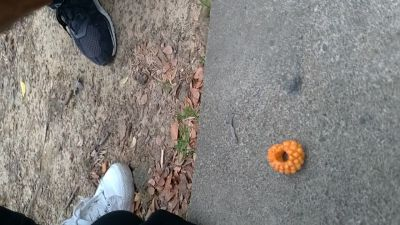eggs: (265, 138, 308, 176)
